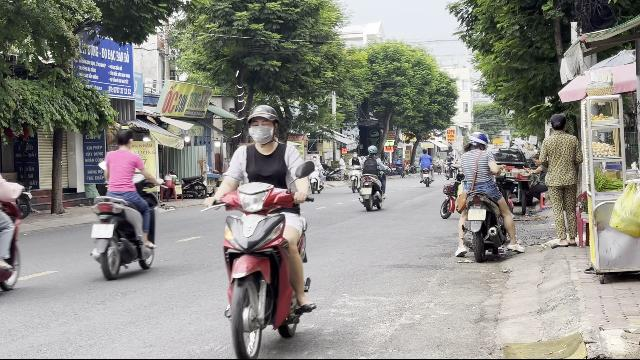helmet: (245, 104, 281, 144), (466, 132, 488, 150)
licenseplate: (91, 224, 113, 238), (468, 210, 487, 220)
motorcyclist: (205, 102, 318, 354), (89, 126, 160, 278), (450, 130, 518, 262)
nohelmet: (114, 128, 134, 150)
